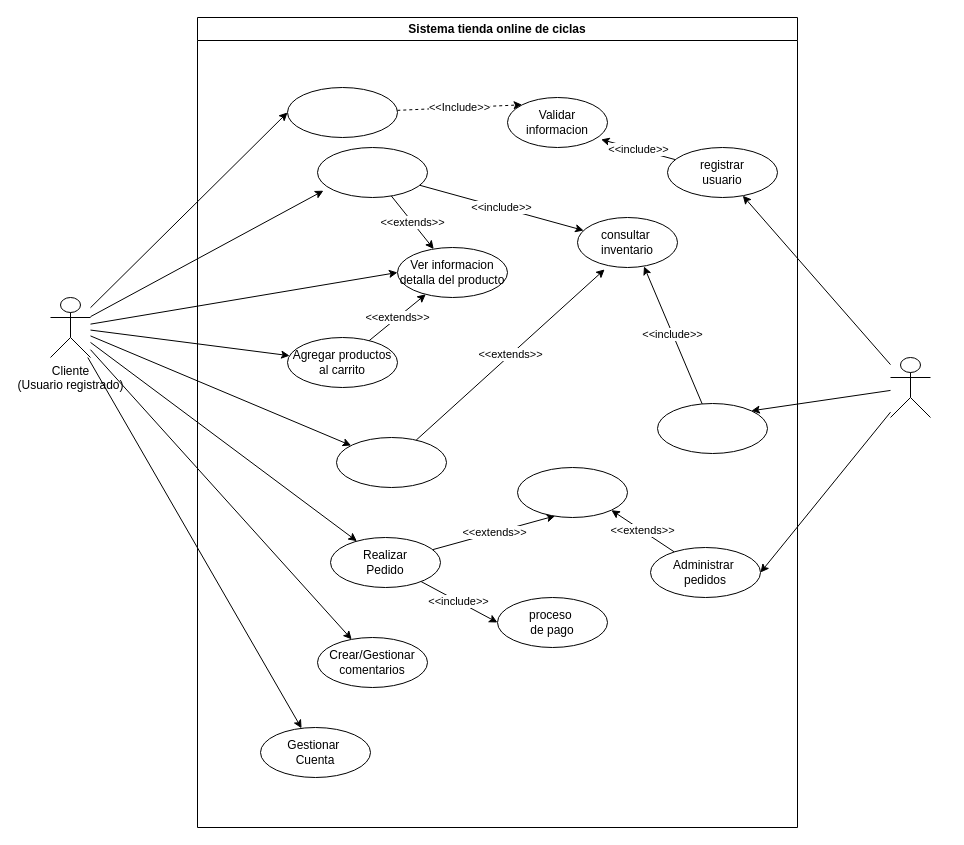
Some shapes in this 964 by 845 pixel diagram are drawn without their labels. The centre of each missing label's shape, as x and y in pixels:
Administrador: (910,387)
Buscar Productos: (372,172)
Gestionar inventario: (712,428)
Inicio Sesion (loguearse): (342,112)
Modificar carrito de compras: (391,462)
ver informacion detallada pedido: (572,492)
